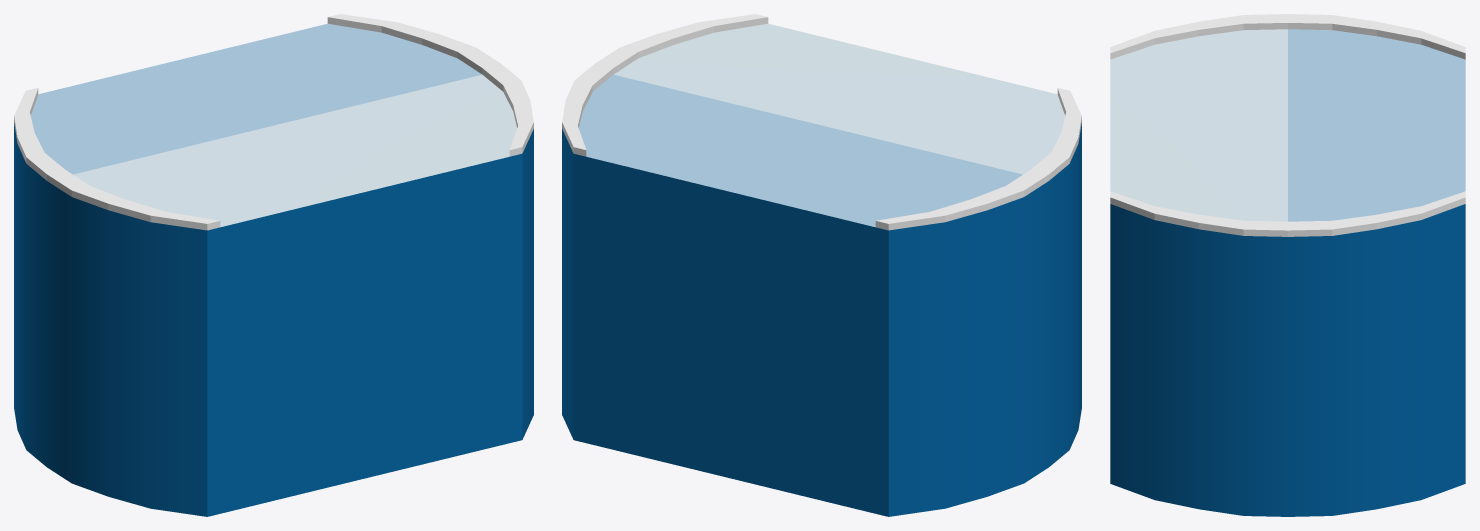
Rendered from W_Road_4.FBX.
The picture shows the model from 3 angles, left to right: view 1: azimuth 30°, elevation 25°; view 2: azimuth 150°, elevation 25°; view 3: azimuth 270°, elevation 25°; orthographic projection. The views are drawn at different scales.
Parts seen in each view (by area): view 1: Road_012; view 2: Road_012; view 3: Road_012.
Part boxes in pixels (bbox=[...]): Road_012: bbox=[14, 14, 533, 516]; Road_012: bbox=[562, 14, 1081, 516]; Road_012: bbox=[1110, 14, 1465, 516].
Size of the model in its own units: 725 by 447 by 503.
